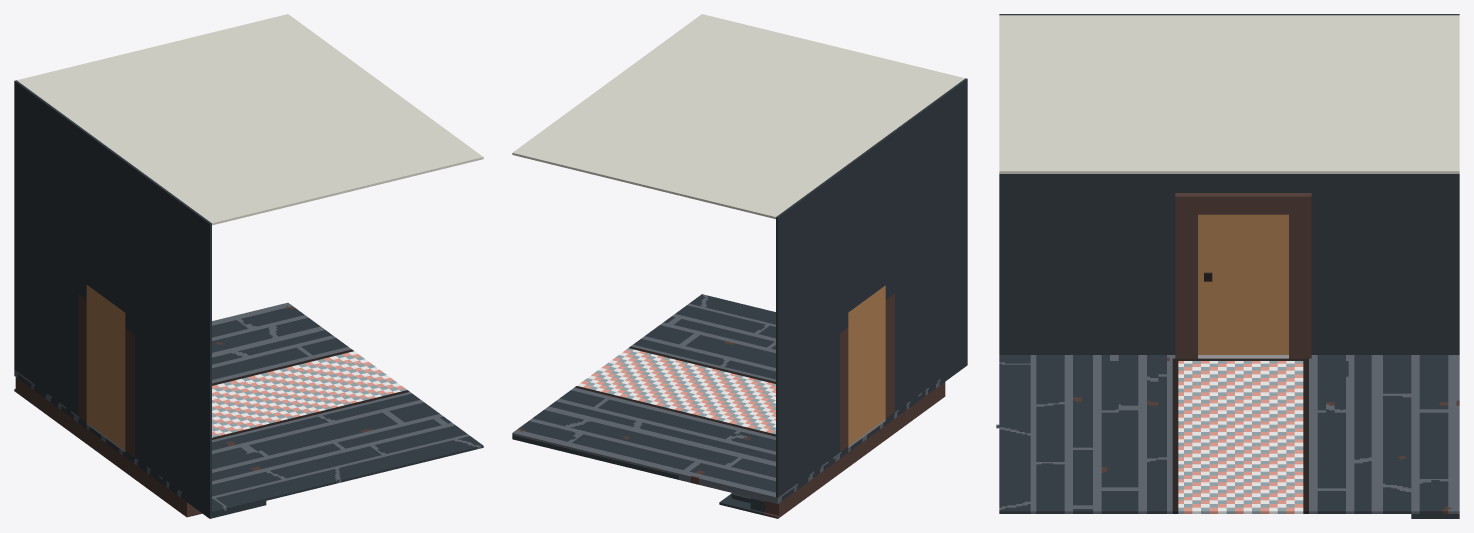
File: Player House-5-front.obj
3 renders of one model, left to right at view 1: azimuth 30°, elevation 25°; view 2: azimuth 150°, elevation 25°; view 3: azimuth 270°, elevation 25°, orthographic. The views are drawn at different scales.
Parts seen in each view (by area): view 1: front; view 2: front; view 3: front.
Boxes of the visible parts, x1,y1,x2,y2 form: front: [14, 14, 483, 518]; front: [512, 14, 967, 518]; front: [996, 14, 1459, 518].
Bounding box in the file's own units: 13.1 × 14.2 × 16.3.
Materials: 1 (1 with a texture image).
